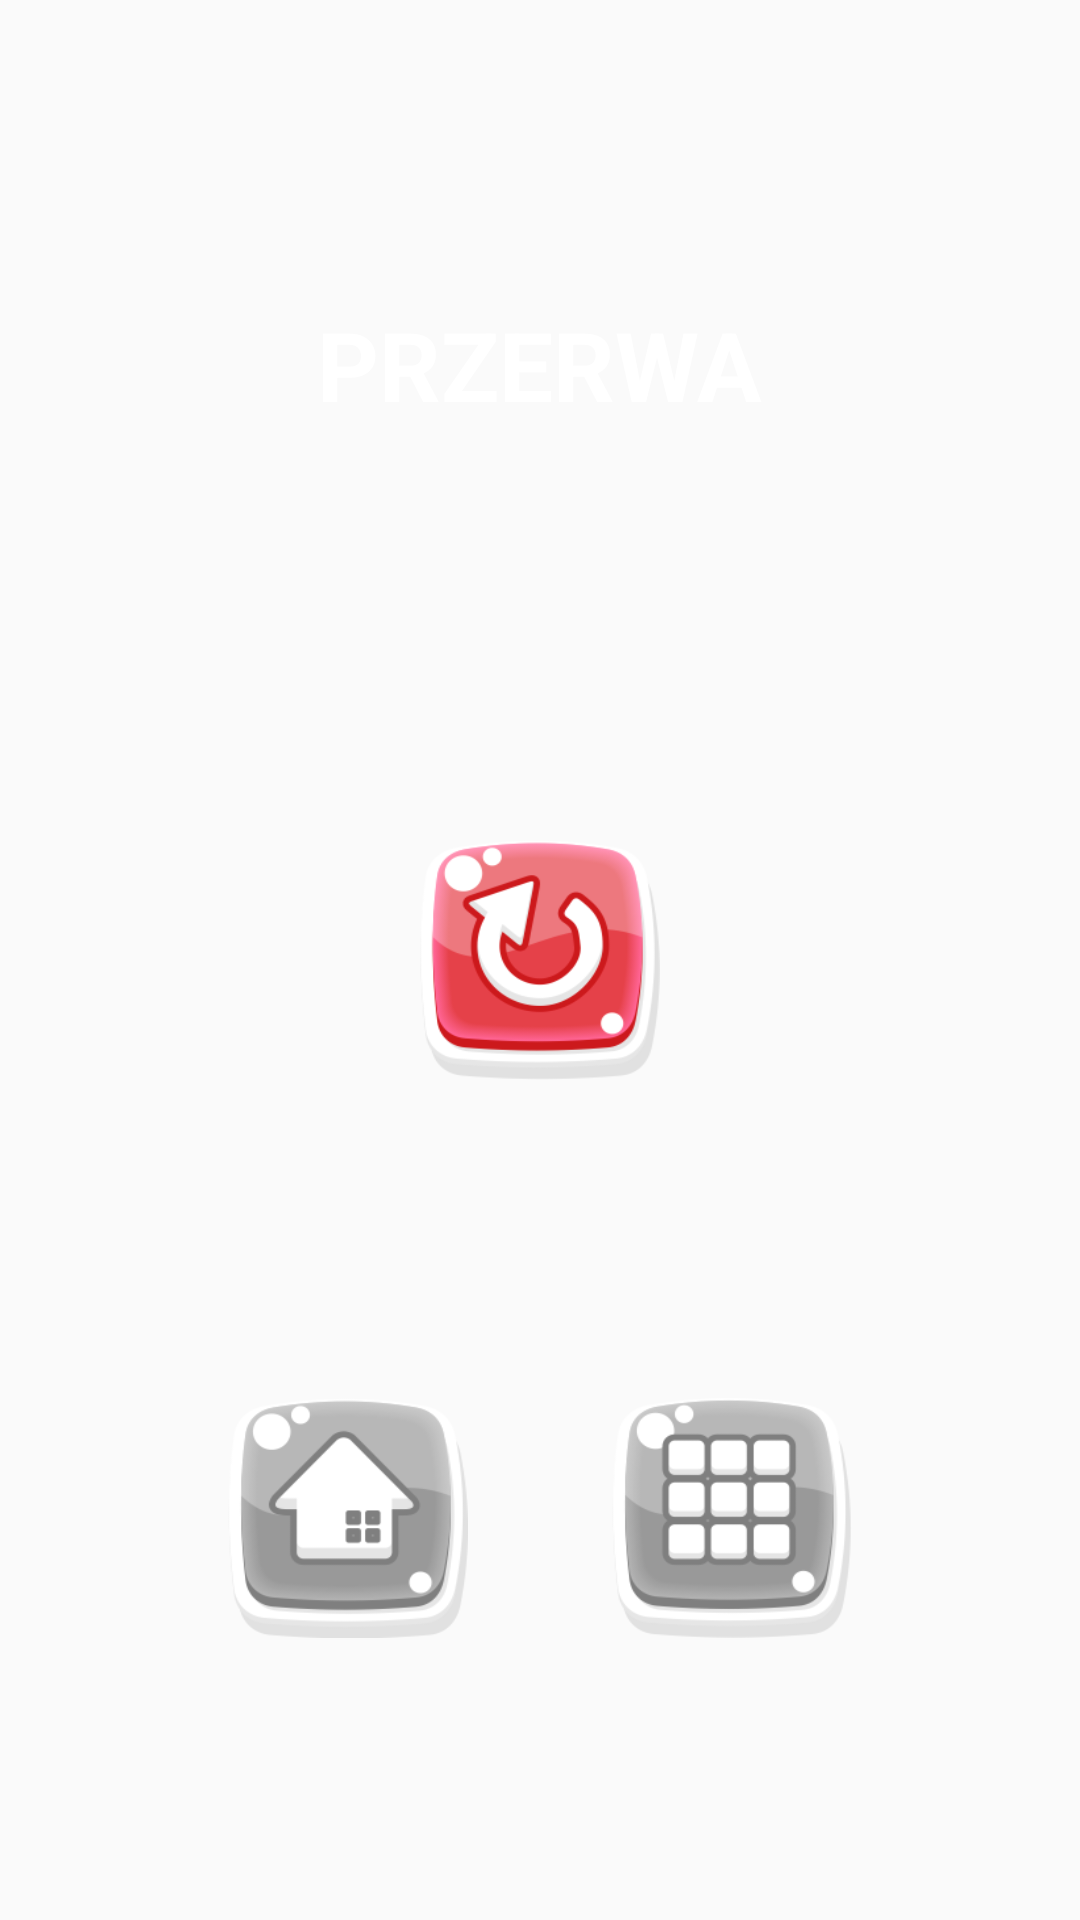

Named icons in this screenshot (1080px x 1920px) and their bounding boxes, [left=x1, top=y1, right=x2, bottom=y2]:
home: [left=241, top=1401, right=468, bottom=1638]
list: [left=625, top=1401, right=850, bottom=1636]
